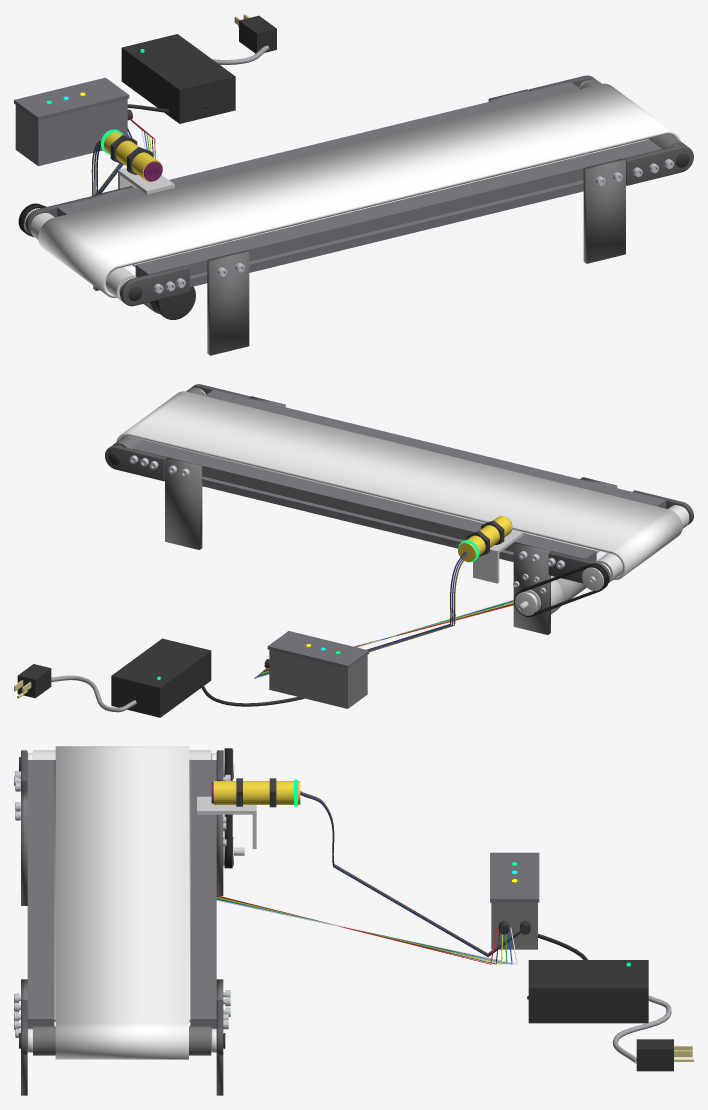
The model's file is Conveyor_Twin_v1.glb.
3 renders of one model, top to bottom at view 1: azimuth 30°, elevation 25°; view 2: azimuth 150°, elevation 25°; view 3: azimuth 270°, elevation 25°, orthographic. The views are drawn at different scales.
Parts seen in each view (by area): view 1: Main_Belt, SolidRail_Left_Exposed, HW_Power_Adapter, SolidRail_Right_Exposed, HW_ControlBox_Casing, Left_A_Leg_Rect, Left_B_Leg_Rect, HW_ControlBox_Door, Drive_Left_EndGuard, Driven_Left_EndGuard, HW_US_Plug_Body, HW_Sensor_Barrel (+4 smaller); view 2: Main_Belt, SolidRail_Right_Exposed, HW_Power_Adapter, SolidRail_Left_Exposed, HW_ControlBox_Casing, Right_A_Leg_Rect, Right_B_Leg_Rect, HW_ControlBox_Door, Driven_Right_EndGuard, HW_Sensor_Barrel, Drive_Right_EndGuard, HW_US_Plug_Body (+5 smaller); view 3: Main_Belt, HW_Power_Adapter, SolidRail_Left_Exposed, SolidRail_Right_Exposed, HW_ControlBox_Door, HW_ControlBox_Casing, HW_Sensor_Barrel, Main_Roller_2, HW_US_Plug_Body, Support_Bed_Plate, Left_B_Leg_Rect, HW_Sensor_Bracket_Flange (+4 smaller).
Boxes of the visible parts, <box> form: Main_Belt: <box>38,83,680,297</box>; SolidRail_Left_Exposed: <box>135,139,661,287</box>; HW_Power_Adapter: <box>121,34,235,123</box>; SolidRail_Right_Exposed: <box>57,82,580,216</box>; HW_ControlBox_Casing: <box>15,99,127,166</box>; Left_A_Leg_Rect: <box>583,158,625,263</box>; Left_B_Leg_Rect: <box>207,250,249,355</box>; HW_ControlBox_Door: <box>14,77,129,120</box>; Drive_Left_EndGuard: <box>120,265,190,306</box>; Driven_Left_EndGuard: <box>624,145,693,185</box>; HW_US_Plug_Body: <box>239,15,276,53</box>; HW_Sensor_Barrel: <box>100,130,162,181</box>; Main_Belt: <box>116,391,682,579</box>; SolidRail_Right_Exposed: <box>133,440,596,561</box>; HW_Power_Adapter: <box>111,638,211,717</box>; SolidRail_Left_Exposed: <box>205,389,665,508</box>; HW_ControlBox_Casing: <box>269,650,367,708</box>; Right_A_Leg_Rect: <box>165,457,202,549</box>; Right_B_Leg_Rect: <box>513,542,550,634</box>; HW_ControlBox_Door: <box>267,631,369,668</box>; Driven_Right_EndGuard: <box>105,445,166,481</box>; HW_Sensor_Barrel: <box>458,516,512,561</box>; Drive_Right_EndGuard: <box>548,551,610,583</box>; HW_US_Plug_Body: <box>17,664,51,698</box>; Main_Belt: <box>55,746,188,1059</box>; HW_Power_Adapter: <box>528,960,648,1023</box>; SolidRail_Left_Exposed: <box>27,760,54,1028</box>; SolidRail_Right_Exposed: <box>190,760,216,1029</box>; HW_ControlBox_Door: <box>490,852,539,902</box>; HW_ControlBox_Casing: <box>491,902,537,949</box>; HW_Sensor_Barrel: <box>213,781,300,804</box>; Main_Roller_2: <box>33,1026,211,1055</box>; HW_US_Plug_Body: <box>636,1039,673,1071</box>; Support_Bed_Plate: <box>54,760,190,1021</box>; Left_B_Leg_Rect: <box>21,789,27,905</box>; HW_Sensor_Bracket_Flange: <box>197,796,256,814</box>.
Size of what is drawn, in the model's own units: 0.518 by 0.1049 by 0.5102.
